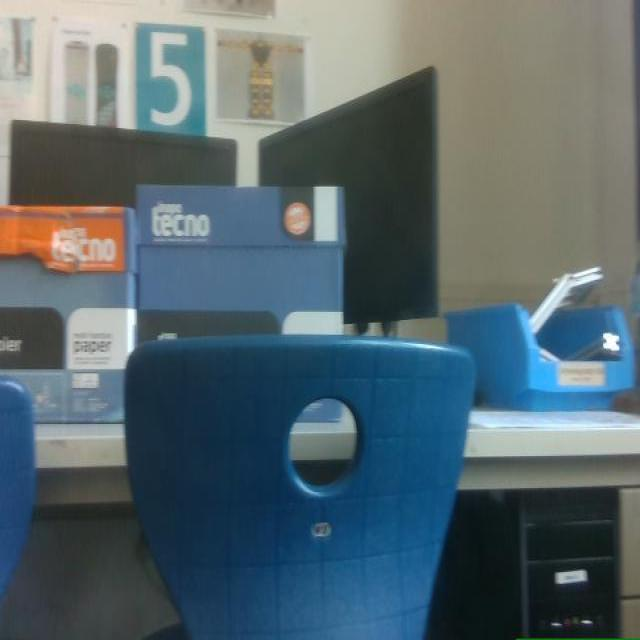objects: (125, 336, 473, 639), (0, 376, 35, 595)
